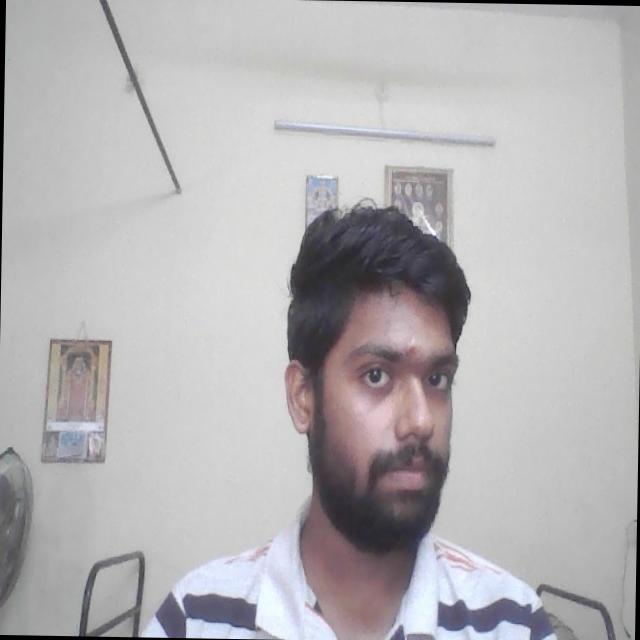Focused: (301, 304, 468, 522)
